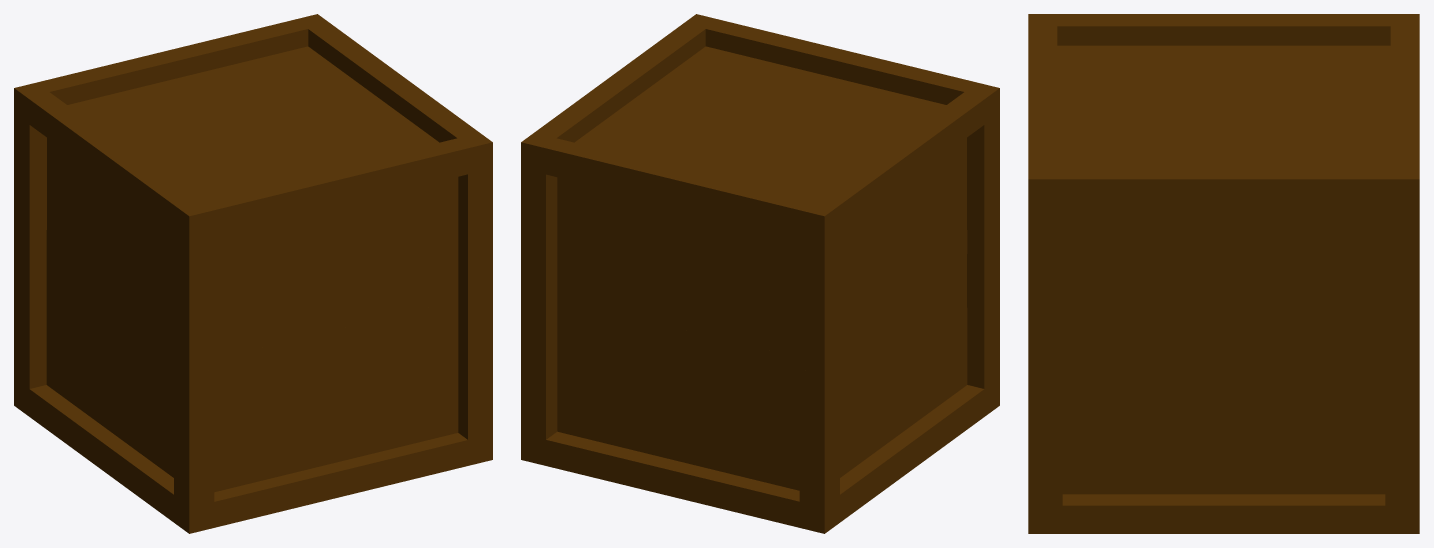
The model's file is Mimic.fbx.
3 views of the same model, side by side, from view 1: azimuth 30°, elevation 25°; view 2: azimuth 150°, elevation 25°; view 3: azimuth 270°, elevation 25° (orthographic). The views are drawn at different scales.
Parts seen in each view (by area): view 1: MimicTop, MimicBottom; view 2: MimicTop, MimicBottom; view 3: MimicTop, MimicBottom.
Part boxes in pixels (<box>): MimicTop: <box>14,14,492,374</box>; MimicBottom: <box>14,247,492,533</box>; MimicTop: <box>521,14,999,374</box>; MimicBottom: <box>521,247,999,533</box>; MimicTop: <box>1028,14,1419,356</box>; MimicBottom: <box>1028,345,1419,533</box>.
Size of the model in its own units: 100 by 100 by 100.
